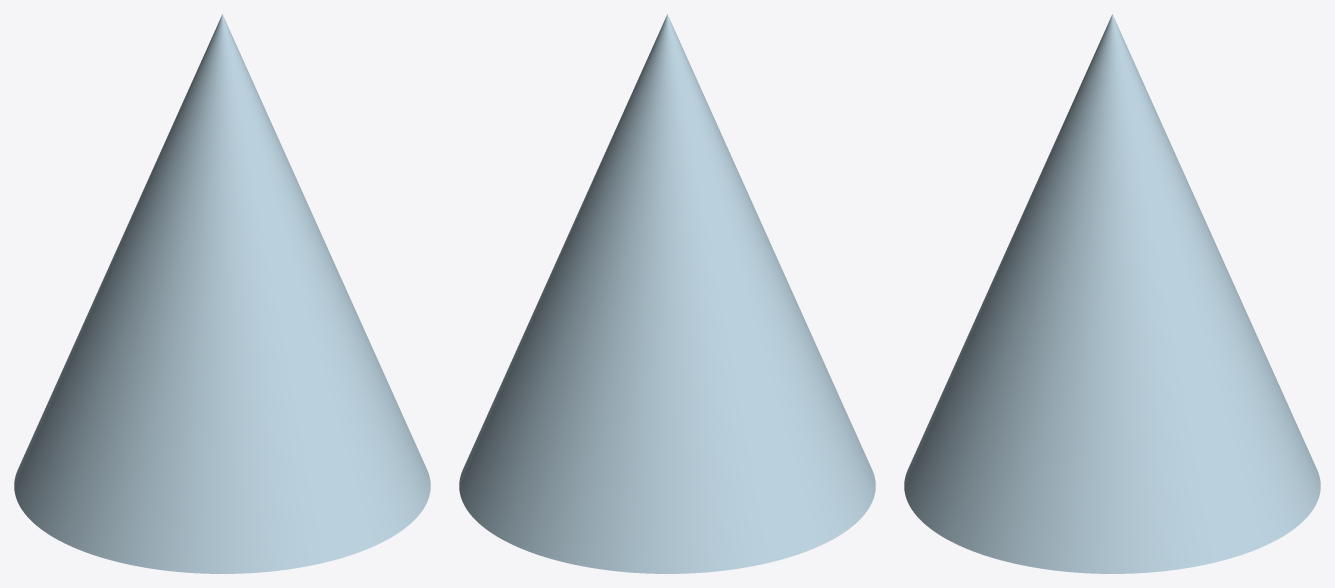
File: Part Studio 1.gltf
The picture shows the model from 3 angles, left to right: view 1: azimuth 30°, elevation 25°; view 2: azimuth 150°, elevation 25°; view 3: azimuth 270°, elevation 25°; orthographic projection.
Visible parts, largest first — view 1: Part 1; view 2: Part 1; view 3: Part 1.
Boxes of the visible parts, x1,y1,x2,y2 form: Part 1: (14,14,430,573); Part 1: (459,14,875,573); Part 1: (904,14,1320,573).
Bounding box in the file's own units: 2 × 2.5 × 2.
